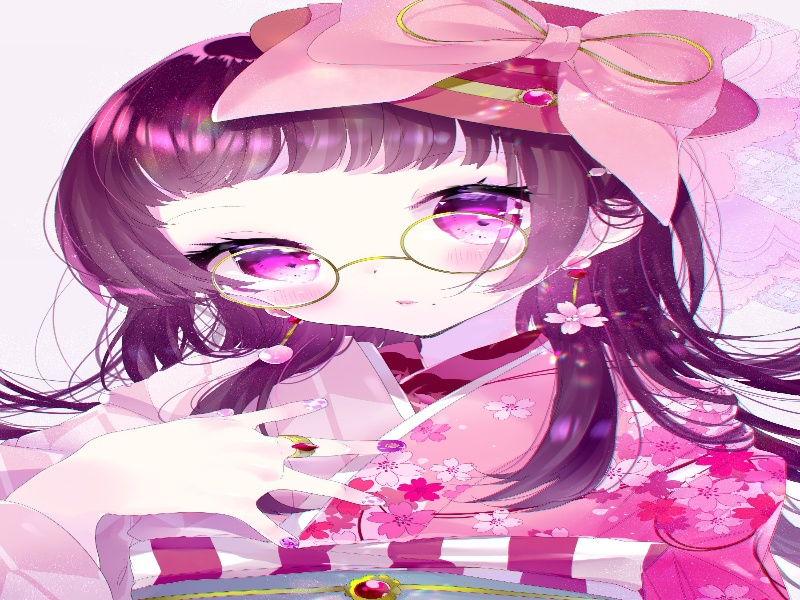flower: (538, 294, 616, 343)
person: (74, 40, 631, 356)
